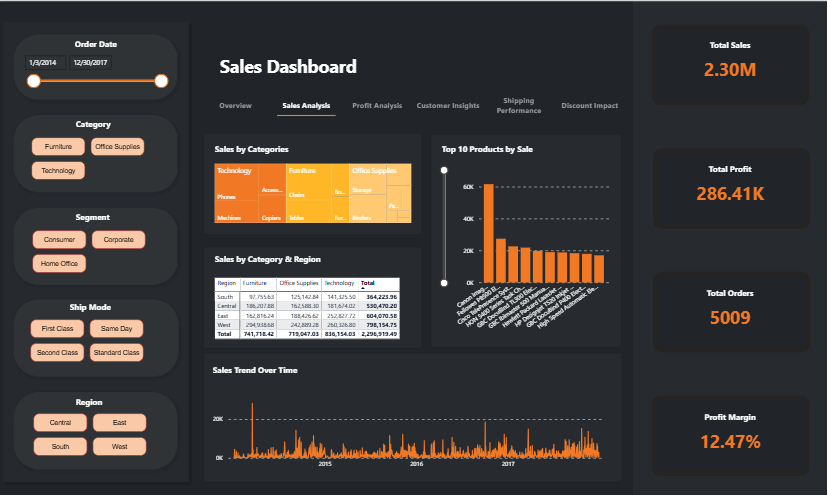

The dashboard page shown, as its layout file describes it:
{"tool":"powerbi","page":{"name":"Sales Analysis","canvas":[1500,900],"ordinal":1},"visuals":[{"type":"textbox","box":[396,94,272,68],"z":0},{"type":"slicer","fields":{"Values":["DimOrder.Order Date"]},"box":[35.6,91.6,280,78.9],"z":1000},{"type":"ChicletSlicer1448559807354","fields":{"Category":["DimCategory.Category"]},"box":[51.5,240.2,244,102],"z":2000},{"type":"textbox","box":[133.3,64.9,206.7,35.6],"z":3000},{"type":"textbox","box":[135.5,210.2,208,36],"z":4000},{"type":"ChicletSlicer1448559807354","fields":{"Category":["DimSegment.Segment"]},"box":[51.8,408.2,244.4,102.2],"z":5000},{"type":"textbox","box":[136.2,378.2,207.8,35.6],"z":6000},{"type":"ChicletSlicer1448559807354","fields":{"Category":["DimShipping.Ship Mode"]},"box":[49.1,569.8,244.4,102.2],"z":7000},{"type":"textbox","box":[124.2,539.6,208,36],"z":8000},{"type":"ChicletSlicer1448559807354","fields":{"Category":["DimRegion.Region"]},"box":[54,740,244,102],"z":9000},{"type":"textbox","box":[136,712,208,36],"z":10000},{"type":"card","title":"Total Sales","fields":{"Values":["Sum(FactSales.Sales)"]},"box":[1218,72,210,88],"z":11000},{"type":"card","title":"Total Profit","fields":{"Values":["Sum(FactSales.Profit)"]},"box":[1218,296,210,88],"z":12000},{"type":"card","title":"Total Orders","fields":{"Values":["Count(FactSales.Order ID)"]},"box":[1218,520,210,88],"z":13000},{"type":"card","title":"Profit Margin","fields":{"Values":["FactSales.Profit Margin %"]},"box":[1218,744,210,88],"z":14000},{"type":"pageNavigator","box":[370,166,758,50],"z":15000},{"type":"shape","box":[504,182,106,56],"z":16000},{"type":"treemap","fields":{"Group":["DimCategory.Category"],"Details":["DimSubCategory.Sub-Category"],"Values":["Sum(FactSales.Sales)"]},"box":[386.7,293.3,365,116.7],"z":17000},{"type":"textbox","box":[387.3,255.7,280,38],"z":18000},{"type":"lineChart","fields":{"Y":["Sum(FactSales.Sales)"],"Category":["DimOrder.Order Date"]},"box":[383.3,710,720,148.3],"z":19000},{"type":"textbox","box":[383.3,653.3,280,36.7],"z":20000},{"type":"pivotTable","fields":{"Rows":["DimRegion.Region"],"Values":["Sum(FactSales.Sales)"],"Columns":["DimCategory.Category"]},"box":[386.7,498.3,360,130],"z":21000},{"type":"textbox","box":[386.7,453.3,280,38.3],"z":22000},{"type":"clusteredColumnChart","fields":{"Category":["DimProduct.Product Name"],"Y":["Sum(FactSales.Sales)"]},"box":[796,296,314,310],"z":23000},{"type":"textbox","box":[796.7,255,280,38.3],"z":24000}]}

Visuals, with their boxes in screenshot pixels (x1, y1, x2, y2), scaled from the page's 1500x900 canvas onto the 828x496 screenshot:
textbox: (x1=219, y1=52, x2=369, y2=89)
slicer - DimOrder.Order Date: (x1=20, y1=50, x2=174, y2=94)
ChicletSlicer1448559807354 - DimCategory.Category: (x1=28, y1=132, x2=163, y2=189)
textbox: (x1=74, y1=36, x2=188, y2=55)
textbox: (x1=75, y1=116, x2=190, y2=136)
ChicletSlicer1448559807354 - DimSegment.Segment: (x1=29, y1=225, x2=164, y2=281)
textbox: (x1=75, y1=208, x2=190, y2=228)
ChicletSlicer1448559807354 - DimShipping.Ship Mode: (x1=27, y1=314, x2=162, y2=370)
textbox: (x1=69, y1=297, x2=183, y2=317)
ChicletSlicer1448559807354 - DimRegion.Region: (x1=30, y1=408, x2=164, y2=464)
textbox: (x1=75, y1=392, x2=190, y2=412)
"Total Sales" card: (x1=672, y1=40, x2=788, y2=88)
"Total Profit" card: (x1=672, y1=163, x2=788, y2=212)
"Total Orders" card: (x1=672, y1=287, x2=788, y2=335)
"Profit Margin" card: (x1=672, y1=410, x2=788, y2=459)
pageNavigator: (x1=204, y1=91, x2=623, y2=119)
shape: (x1=278, y1=100, x2=337, y2=131)
treemap - DimCategory.Category x DimSubCategory.Sub-Category: (x1=213, y1=162, x2=415, y2=226)
textbox: (x1=214, y1=141, x2=368, y2=162)
lineChart - Sum(FactSales.Sales) x DimOrder.Order Date: (x1=212, y1=391, x2=609, y2=473)
textbox: (x1=212, y1=360, x2=366, y2=380)
pivotTable - DimRegion.Region x Sum(FactSales.Sales): (x1=213, y1=275, x2=412, y2=346)
textbox: (x1=213, y1=250, x2=368, y2=271)
clusteredColumnChart - DimProduct.Product Name x Sum(FactSales.Sales): (x1=439, y1=163, x2=613, y2=334)
textbox: (x1=440, y1=141, x2=594, y2=162)
